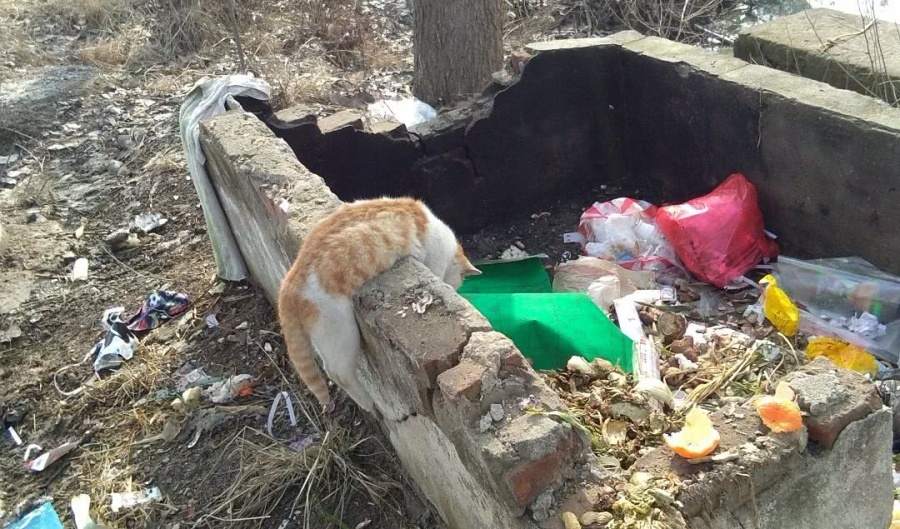cat: (278, 196, 482, 414)
